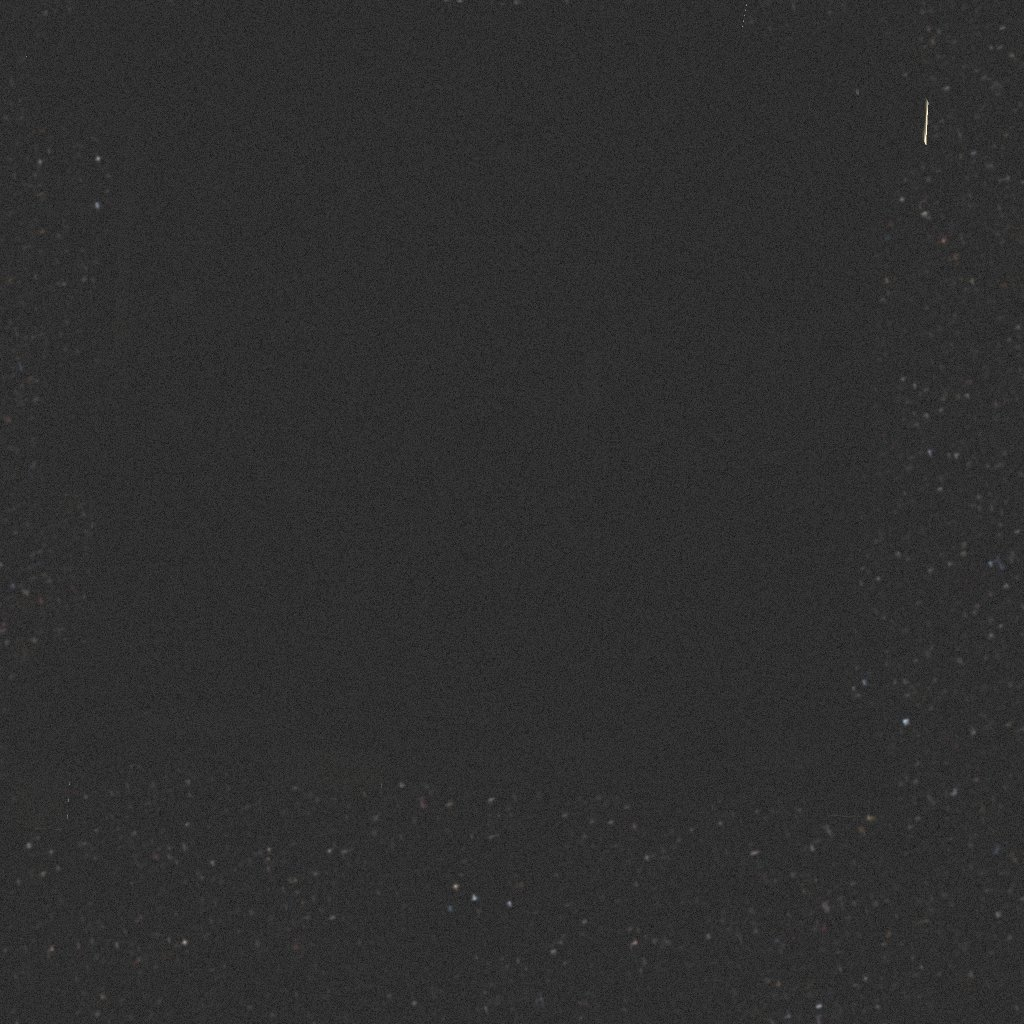proba_3_ocs: (0, 0, 928, 829)
